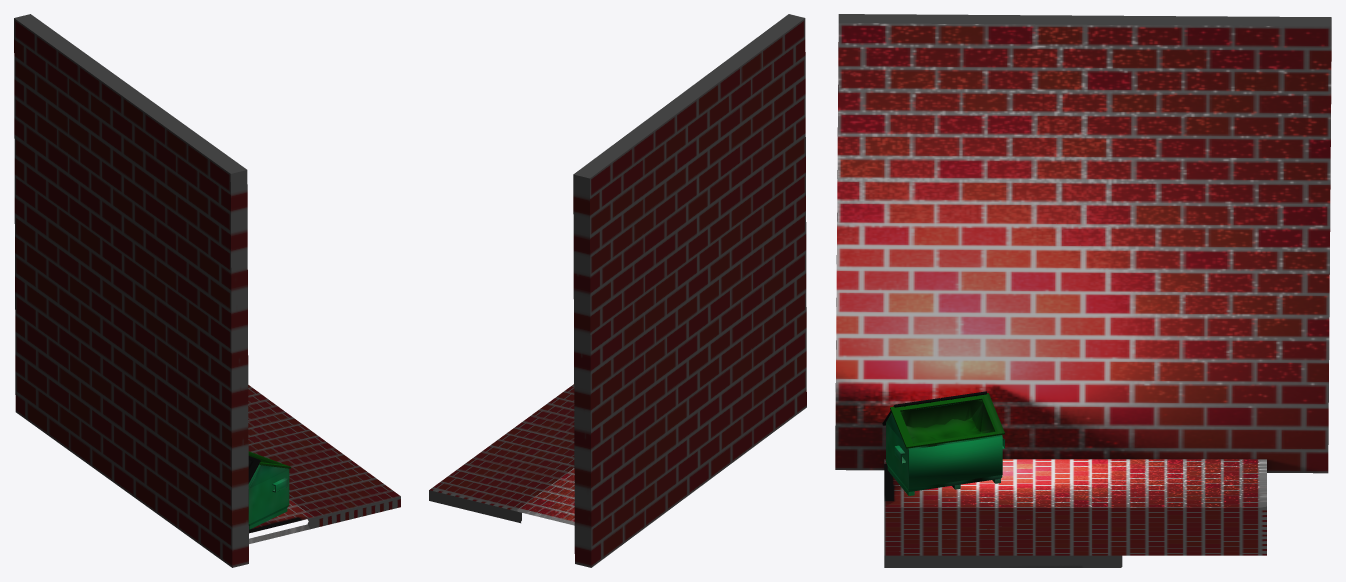
The model's file is brick.dae.
3 renders of one model, left to right at view 1: azimuth 30°, elevation 25°; view 2: azimuth 150°, elevation 25°; view 3: azimuth 270°, elevation 25°, orthographic. The views are drawn at different scales.
Visible parts, largest first — view 1: Plane, Plane_001, base_Cube_002; view 2: Plane, Plane_001; view 3: Plane, Plane_001, base_Cube_002.
Boxes of the visible parts, bbox=[...] form: Plane: bbox=[14, 14, 248, 567]; Plane_001: bbox=[248, 385, 400, 543]; base_Cube_002: bbox=[248, 451, 290, 529]; Plane: bbox=[573, 14, 806, 567]; Plane_001: bbox=[429, 384, 574, 525]; Plane: bbox=[835, 14, 1331, 473]; Plane_001: bbox=[884, 459, 1266, 567]; base_Cube_002: bbox=[882, 391, 1004, 495].
Bounding box in the file's own units: 1.01 × 2.01 × 2.01.
Materials: 2 (2 with a texture image).
